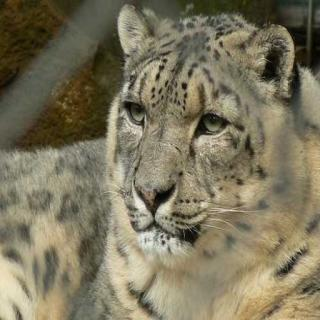Leopard: (31, 30, 319, 320)
